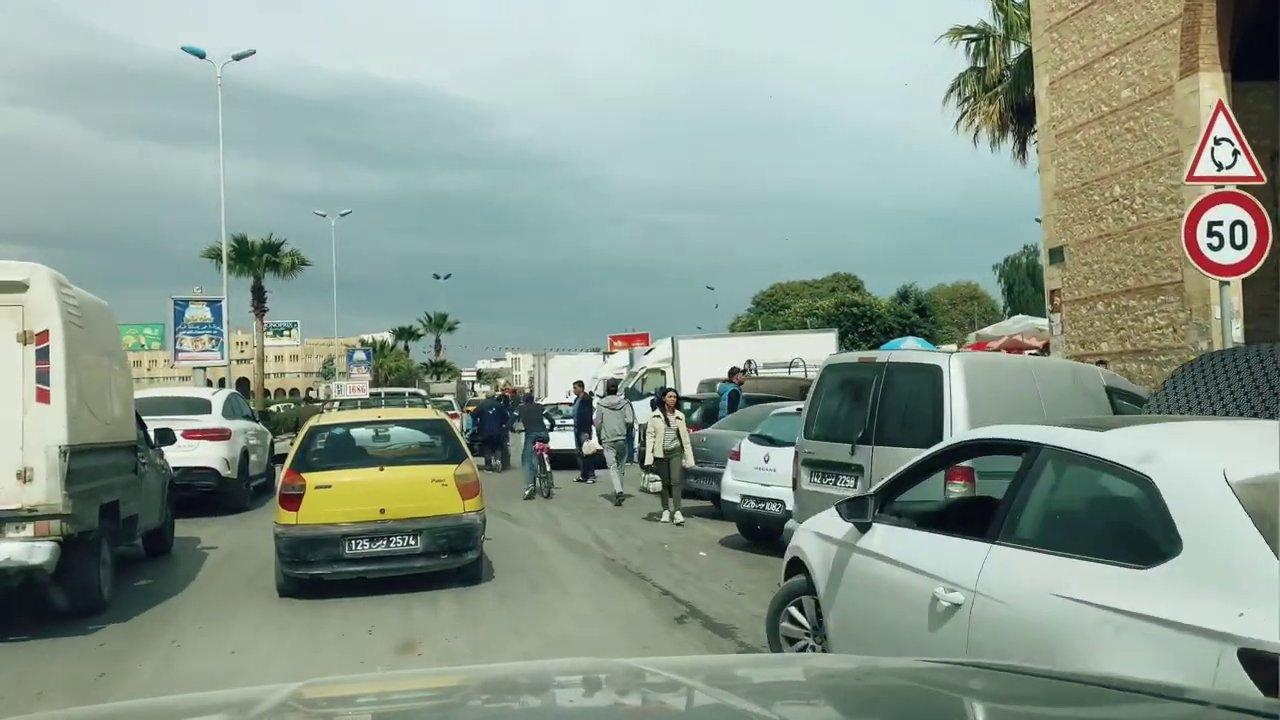roundabout: (1176, 94, 1273, 193)
speed limit 50: (1184, 184, 1275, 278)
